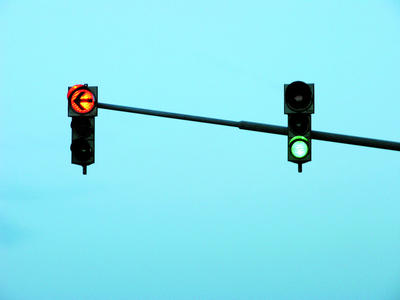trafficlight_green: (288, 85, 312, 159)
trafficlight_red: (67, 85, 94, 162)
